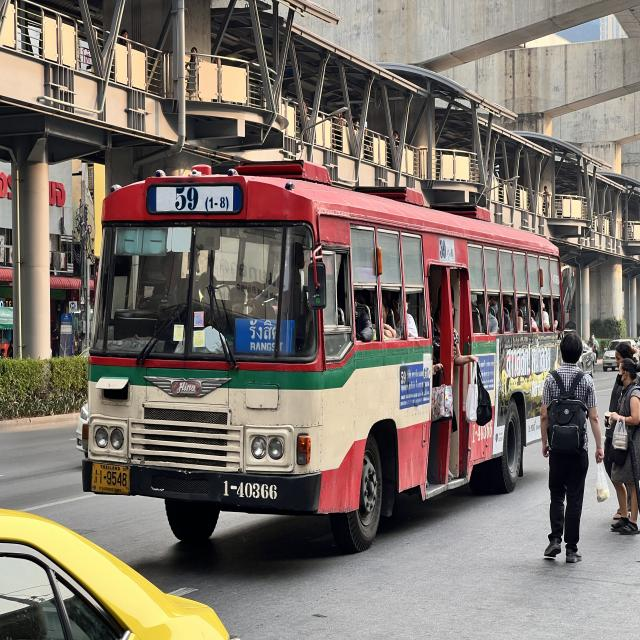BMTA-bus: (75, 152, 569, 556)
Bus-Line-Number: (164, 182, 237, 217)
Destination-Sign-Normal: (237, 316, 295, 358)
